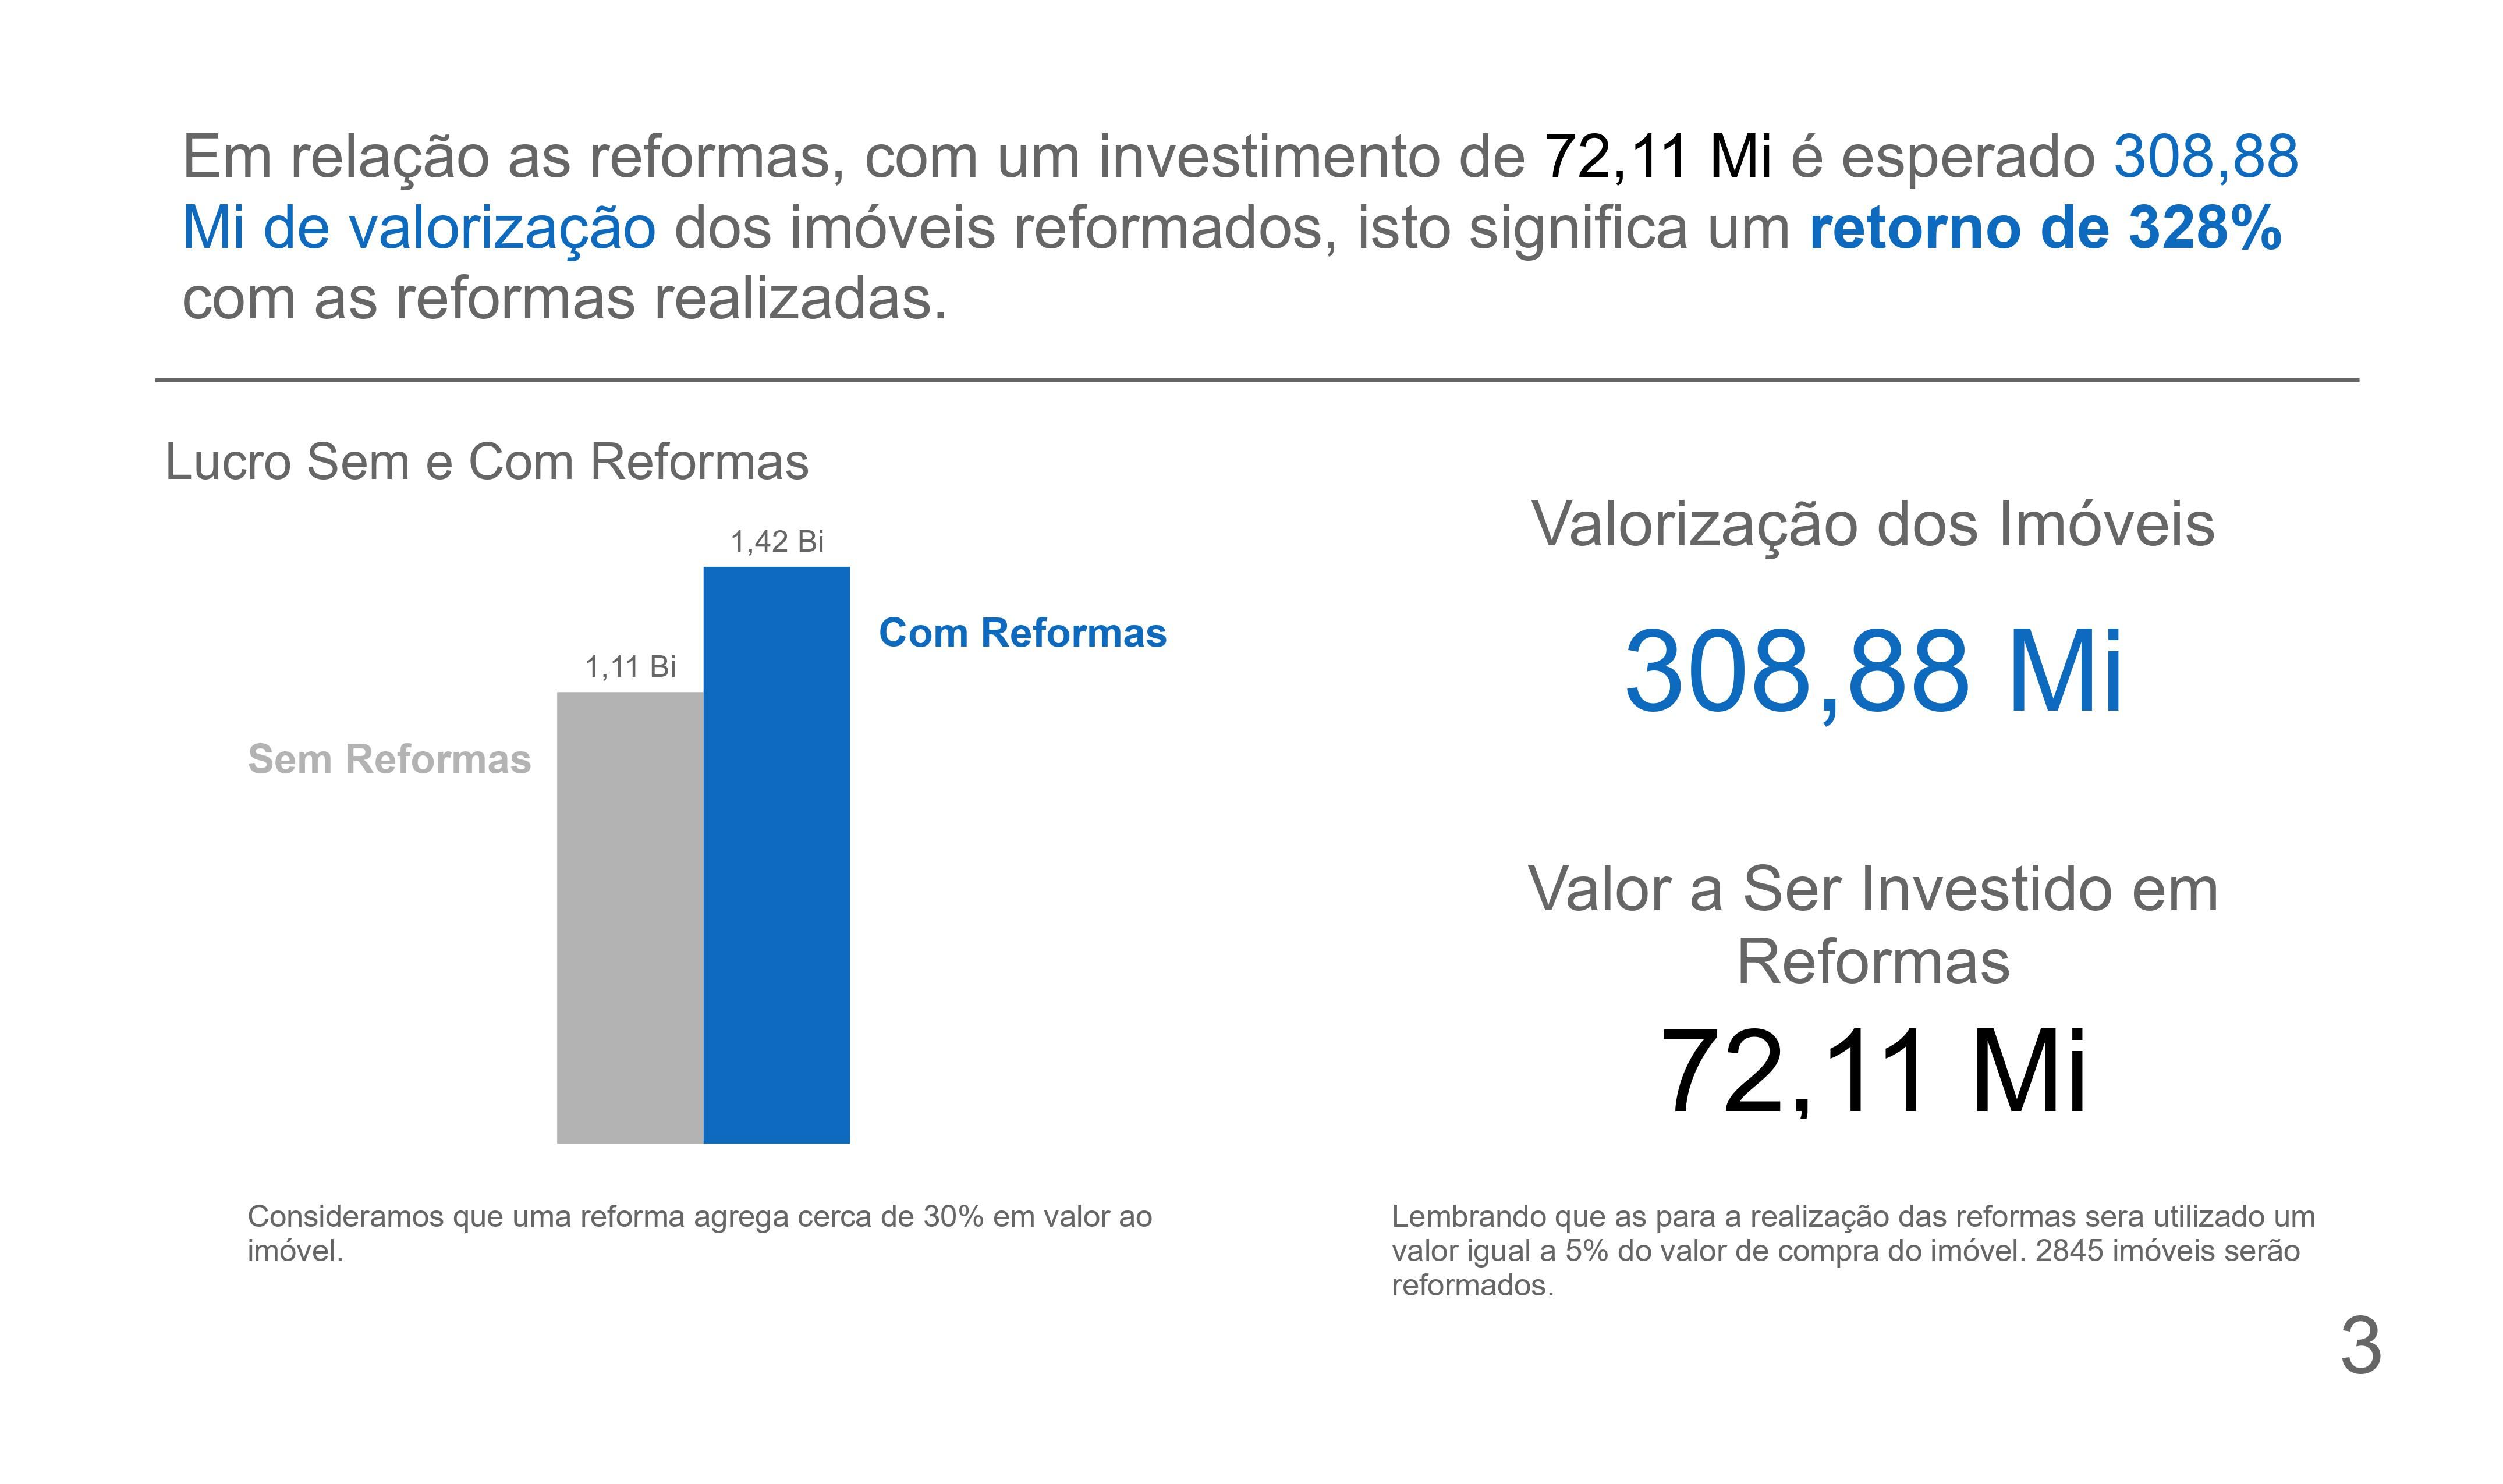

Layout of this report page (visuals, bound fields, positions):
{"tool":"powerbi","page":{"name":"Página 3","canvas":[1280,720],"ordinal":3},"visuals":[{"type":"textbox","box":[74.7,30.2,1151.1,129.3],"z":0},{"type":"clusteredColumnChart","title":"Lucro Sem e Com Reformas","fields":{"Y":["Sum(valor_a_vender.lucro)","Sum(reformas.lucro_final)"]},"box":[66.1,197.9,584.9,378],"z":1000},{"type":"textbox","box":[439.1,285.5,184,43.1],"z":2000},{"type":"textbox","box":[108.6,351.6,201.2,37.4],"z":3000},{"type":"shape","box":[66.1,159.5,1154,21.6],"z":4000},{"type":"textbox","box":[109.2,595,514.5,51.7],"z":5000},{"type":"textbox","box":[708.5,595,514.5,69],"z":6000},{"type":"card","title":"Valor a Ser Investido em Reformas","fields":{"Values":["Sum(reformas.valor_reforma)"]},"box":[743,418.2,445.5,143.7],"z":7000},{"type":"card","title":"Valorização dos Imóveis","fields":{"Values":["reformas.lucro_com_reformas"]},"box":[743,227.1,445.5,143.7],"z":8000},{"type":"textbox","box":[1204.3,646.7,63.2,58.9],"z":8001}]}

Visuals, with their boxes on the page's 1280x720 design canvas (x1, y1, x2, y2). These are canvas units, not pixel positions in the 2503x1484 screenshot, which may show the page scaled, cropped or inside an application window:
textbox: locate(75, 30, 1226, 160)
"Lucro Sem e Com Reformas" clusteredColumnChart: locate(66, 198, 651, 576)
textbox: locate(439, 286, 623, 329)
textbox: locate(109, 352, 310, 389)
shape: locate(66, 160, 1220, 181)
textbox: locate(109, 595, 624, 647)
textbox: locate(708, 595, 1223, 664)
"Valor a Ser Investido em Reformas" card: locate(743, 418, 1188, 562)
"Valorização dos Imóveis" card: locate(743, 227, 1188, 371)
textbox: locate(1204, 647, 1268, 706)
